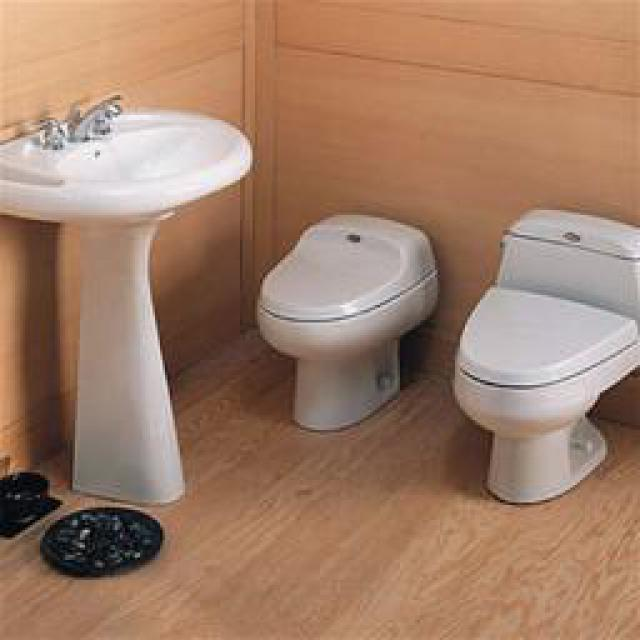bidet faucet: (250, 202, 438, 428)
floor -X: (0, 330, 635, 632)
sink basin: (0, 90, 250, 502), (0, 108, 245, 498)
sink occluded: (35, 92, 122, 148)
toilet bowl: (452, 212, 635, 495)
